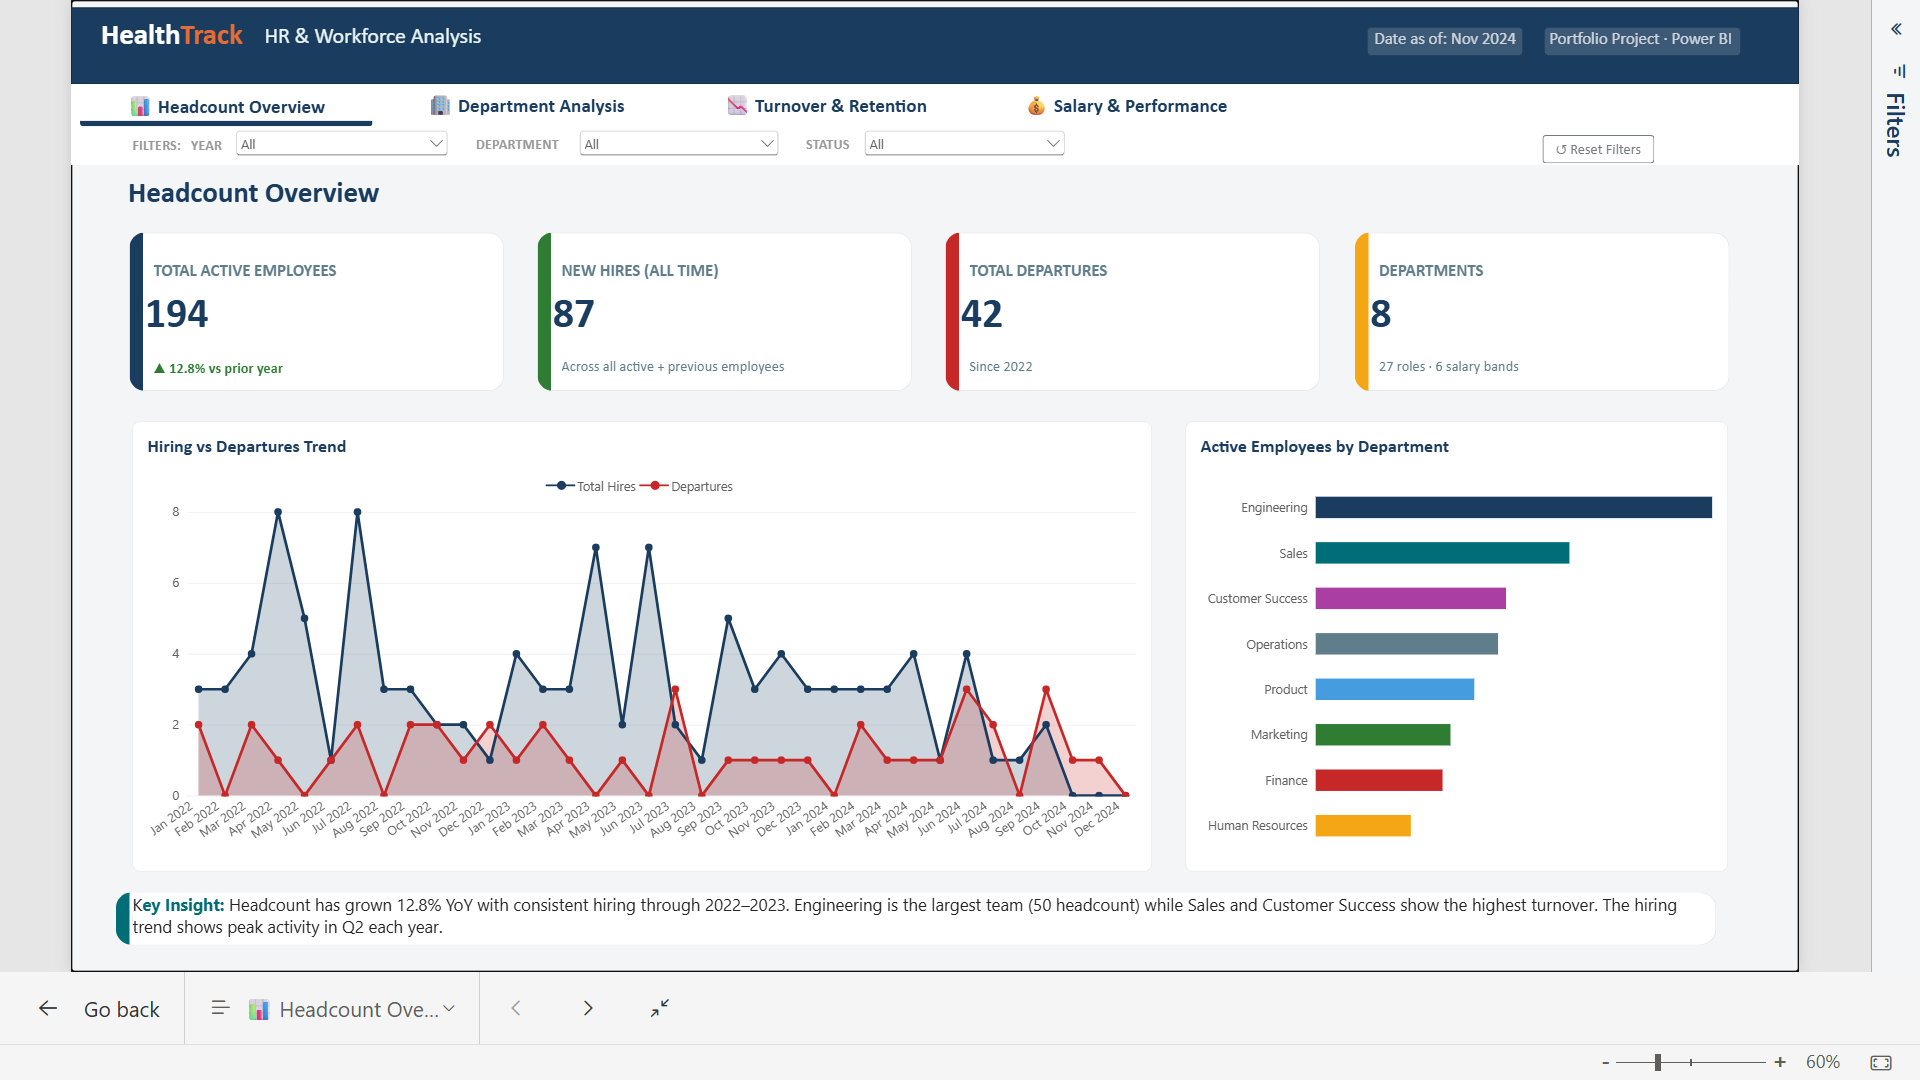

What the dashboard file says about the page in this screenshot:
{"tool":"powerbi","page":{"name":"📊 Headcount Overview","canvas":[1920,1080],"ordinal":0},"visuals":[{"type":"textbox","box":[32.5,17.8,345.9,47.7],"z":0,"group":"g16"},{"type":"shape","box":[0,92.5,1920,90],"z":0},{"type":"group","id":"g1","title":"Group 3","box":[132.6,140,974.9,44.5],"z":0,"group":"g10"},{"type":"group","id":"g2","title":"Group 1","box":[132.6,140.4,289.7,43.6],"z":0,"group":"g1"},{"type":"group","id":"g3","title":"Group 6","box":[518.6,258,429.3,176.4],"z":0,"group":"g23"},{"type":"textbox","box":[214.6,24.6,410.4,43.2],"z":1000,"group":"g16"},{"type":"slicer","fields":{"Values":["DimEmployee.EmploymentStatus"]},"box":[875.1,140,232.4,44.5],"z":1000,"group":"g6"},{"type":"slicer","fields":{"Values":["DimDate.Year"]},"box":[177.1,140.4,245.3,43.6],"z":1000,"group":"g2"},{"type":"group","id":"g4","title":"Group 2","box":[448.5,140.4,340.9,43.6],"z":1000,"group":"g1"},{"type":"slicer","fields":{"Values":["DimDate.Year"]},"box":[558.1,140.4,231.3,43.6],"z":1000,"group":"g4"},{"type":"textbox","box":[67.5,152.3,82,40.2],"z":1000,"group":"g10"},{"type":"textbox","box":[62.5,192.5,322.5,42.5],"z":1000},{"type":"group","id":"g5","title":"Group 9","box":[65,257.5,429,177.5],"z":1000,"group":"g23"},{"type":"shape","box":[0,7.5,1920,85],"z":2000},{"type":"group","id":"g6","title":"Group 2","box":[815.6,140,291.9,44.5],"z":2000,"group":"g1"},{"type":"group","id":"g7","title":"Group 9","box":[972.4,257.5,429,177.5],"z":2000,"group":"g23"},{"type":"textbox","box":[815.6,149.6,108,32.7],"z":3000,"group":"g6"},{"type":"textbox","box":[448.5,150,108,32.7],"z":3000,"group":"g4"},{"type":"textbox","box":[132.6,152.8,55.3,31.1],"z":3000,"group":"g2"},{"type":"group","id":"g8","title":"Group 9","box":[1426,257.5,429,177.5],"z":3000,"group":"g23"},{"type":"group","id":"g9","title":"Group 9","box":[50,991.8,1778.2,58.2],"z":3000},{"type":"group","id":"g10","title":"Group 4","box":[67.5,140,1040,52.5],"z":4000},{"type":"group","id":"g11","title":"Group 7","box":[65,257.5,416.2,176.4],"z":4000,"group":"g17"},{"type":"group","id":"g12","title":"Group 7","box":[972.4,257.5,416.2,176.4],"z":4000,"group":"g18"},{"type":"group","id":"g13","title":"Group 7","box":[1426,257.5,416.2,176.4],"z":4000,"group":"g19"},{"type":"group","id":"g14","title":"Group 7","box":[518.6,258,416.2,176.4],"z":4000,"group":"g20"},{"type":"group","id":"g15","title":"Group 7","box":[50,991.8,1778,58],"z":4000,"group":"g22"},{"type":"group","id":"g16","title":"Group 5","box":[32.5,17.8,592.5,50],"z":5000},{"type":"textbox","box":[92.3,287.7,382.2,139.7],"z":5000,"group":"g17"},{"type":"textbox","box":[999.7,287.7,382.2,139.7],"z":5000,"group":"g18"},{"type":"textbox","box":[1453.3,287.7,382.2,139.7],"z":5000,"group":"g19"},{"type":"textbox","box":[545.9,288.2,382.2,139.7],"z":5000,"group":"g20"},{"type":"group","id":"g17","title":"Group 8","box":[65,257.5,416.2,176.4],"z":5001,"group":"g5"},{"type":"group","id":"g18","title":"Group 8","box":[972.4,257.5,416.2,176.4],"z":5001,"group":"g7"},{"type":"group","id":"g19","title":"Group 8","box":[1426,257.5,416.2,176.4],"z":5001,"group":"g8"},{"type":"group","id":"g20","title":"Group 8","box":[518.6,258,416.2,176.4],"z":5001,"group":"g21"},{"type":"group","id":"g21","title":"Group 9","box":[518.6,258,429.3,176.4],"z":5001,"group":"g3"},{"type":"group","id":"g22","title":"Group 8","box":[50,991.8,1778,58],"z":5001,"group":"g9"},{"type":"cardVisual","fields":{"Data":["Measure.Total Active Employees"]},"box":[65,257.5,416.2,176.4],"z":6000,"group":"g11"},{"type":"group","id":"g23","title":"Group 10","box":[65,257.5,1790,177.5],"z":6000},{"type":"cardVisual","fields":{"Data":["Measure.Departures"]},"box":[972.4,257.5,416.2,176.4],"z":6000,"group":"g12"},{"type":"cardVisual","fields":{"Data":["CountNonNull(DimDepartment.DepartmentID)"]},"box":[1426,257.5,416.2,176.4],"z":6000,"group":"g13"},{"type":"cardVisual","fields":{"Data":["Measure.New Hires"]},"box":[518.6,258,416.2,176.4],"z":6000,"group":"g14"},{"type":"textbox","box":[91.5,396.1,402.8,31.2],"z":6000,"group":"g5"},{"type":"textbox","box":[998.9,396.1,402.8,31.2],"z":6000,"group":"g7"},{"type":"textbox","box":[1452.5,396.1,402.8,31.2],"z":6000,"group":"g8"},{"type":"textbox","box":[545.1,396.6,402.8,31.2],"z":6000,"group":"g21"},{"type":"cardVisual","fields":{"Data":["Measure.Key Insight"]},"box":[50,991.8,1778,58],"z":6000,"group":"g15"},{"type":"areaChart","title":"Hiring vs Departures Trend","fields":{"Category":["DimDate.MonthYear"],"Y":["Measure.Total Hires","Measure.Departures"]},"box":[67.5,467.5,1132.5,500],"z":7000},{"type":"clusteredBarChart","title":"Active Employees by Department","fields":{"Category":["DimDepartment.DepartmentName"],"Y":["Measure.Total Active Employees"]},"box":[1237.5,467.5,602.5,500],"z":8000},{"type":"textbox","box":[68,992,1742,58],"z":9000},{"type":"textbox","box":[1636.2,30,218.9,32.1],"z":10000,"group":"g24"},{"type":"pageNavigator","box":[10,92.5,1325,47.5],"z":10000},{"type":"textbox","box":[1440,30,173.6,32.1],"z":11000,"group":"g24"},{"type":"actionButton","title":"Reset Filters","box":[1635,150,124.3,31.4],"z":11000},{"type":"group","id":"g24","title":"Group 11","box":[1440,30,415,32.5],"z":12000}]}

Visuals, with their boxes on the page's 1920x1080 design canvas (x1, y1, x2, y2). These are canvas units, not pixel positions in the 1920x1080 screenshot, which may show the page scaled, cropped or inside an application window:
textbox: x1=32 y1=18 x2=378 y2=66
shape: x1=0 y1=92 x2=1920 y2=182
"Group 3" group: x1=133 y1=140 x2=1108 y2=184
"Group 1" group: x1=133 y1=140 x2=422 y2=184
"Group 6" group: x1=519 y1=258 x2=948 y2=434
textbox: x1=215 y1=25 x2=625 y2=68
slicer - DimEmployee.EmploymentStatus: x1=875 y1=140 x2=1108 y2=184
slicer - DimDate.Year: x1=177 y1=140 x2=422 y2=184
"Group 2" group: x1=448 y1=140 x2=789 y2=184
slicer - DimDate.Year: x1=558 y1=140 x2=789 y2=184
textbox: x1=68 y1=152 x2=150 y2=192
textbox: x1=62 y1=192 x2=385 y2=235
"Group 9" group: x1=65 y1=258 x2=494 y2=435
shape: x1=0 y1=8 x2=1920 y2=92
"Group 2" group: x1=816 y1=140 x2=1108 y2=184
"Group 9" group: x1=972 y1=258 x2=1401 y2=435
textbox: x1=816 y1=150 x2=924 y2=182
textbox: x1=448 y1=150 x2=556 y2=183
textbox: x1=133 y1=153 x2=188 y2=184
"Group 9" group: x1=1426 y1=258 x2=1855 y2=435
"Group 9" group: x1=50 y1=992 x2=1828 y2=1050
"Group 4" group: x1=68 y1=140 x2=1108 y2=192
"Group 7" group: x1=65 y1=258 x2=481 y2=434
"Group 7" group: x1=972 y1=258 x2=1389 y2=434
"Group 7" group: x1=1426 y1=258 x2=1842 y2=434
"Group 7" group: x1=519 y1=258 x2=935 y2=434
"Group 7" group: x1=50 y1=992 x2=1828 y2=1050
"Group 5" group: x1=32 y1=18 x2=625 y2=68
textbox: x1=92 y1=288 x2=474 y2=427
textbox: x1=1000 y1=288 x2=1382 y2=427
textbox: x1=1453 y1=288 x2=1836 y2=427
textbox: x1=546 y1=288 x2=928 y2=428
"Group 8" group: x1=65 y1=258 x2=481 y2=434
"Group 8" group: x1=972 y1=258 x2=1389 y2=434
"Group 8" group: x1=1426 y1=258 x2=1842 y2=434
"Group 8" group: x1=519 y1=258 x2=935 y2=434
"Group 9" group: x1=519 y1=258 x2=948 y2=434
"Group 8" group: x1=50 y1=992 x2=1828 y2=1050
cardVisual - Measure.Total Active Employees: x1=65 y1=258 x2=481 y2=434
"Group 10" group: x1=65 y1=258 x2=1855 y2=435
cardVisual - Measure.Departures: x1=972 y1=258 x2=1389 y2=434
cardVisual - CountNonNull(DimDepartment.DepartmentID): x1=1426 y1=258 x2=1842 y2=434
cardVisual - Measure.New Hires: x1=519 y1=258 x2=935 y2=434
textbox: x1=92 y1=396 x2=494 y2=427
textbox: x1=999 y1=396 x2=1402 y2=427
textbox: x1=1452 y1=396 x2=1855 y2=427
textbox: x1=545 y1=397 x2=948 y2=428
cardVisual - Measure.Key Insight: x1=50 y1=992 x2=1828 y2=1050
"Hiring vs Departures Trend" areaChart: x1=68 y1=468 x2=1200 y2=968
"Active Employees by Department" clusteredBarChart: x1=1238 y1=468 x2=1840 y2=968
textbox: x1=68 y1=992 x2=1810 y2=1050
textbox: x1=1636 y1=30 x2=1855 y2=62
pageNavigator: x1=10 y1=92 x2=1335 y2=140
textbox: x1=1440 y1=30 x2=1614 y2=62
"Reset Filters" actionButton: x1=1635 y1=150 x2=1759 y2=181
"Group 11" group: x1=1440 y1=30 x2=1855 y2=62
